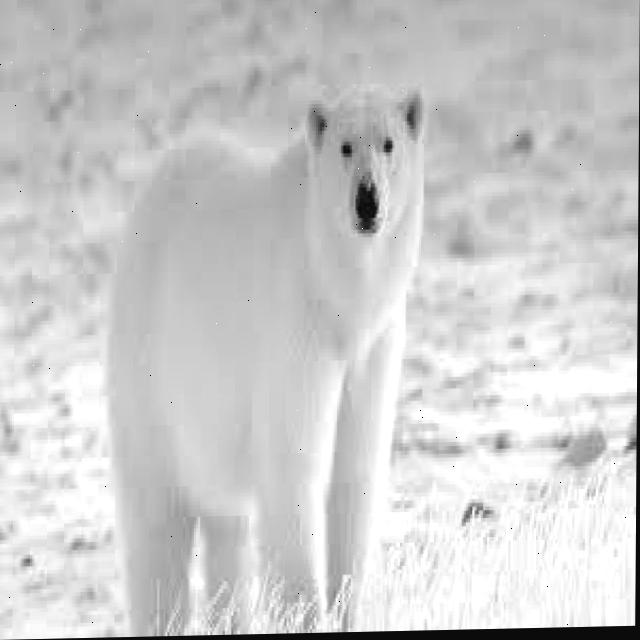Bear: (116, 98, 411, 611)
